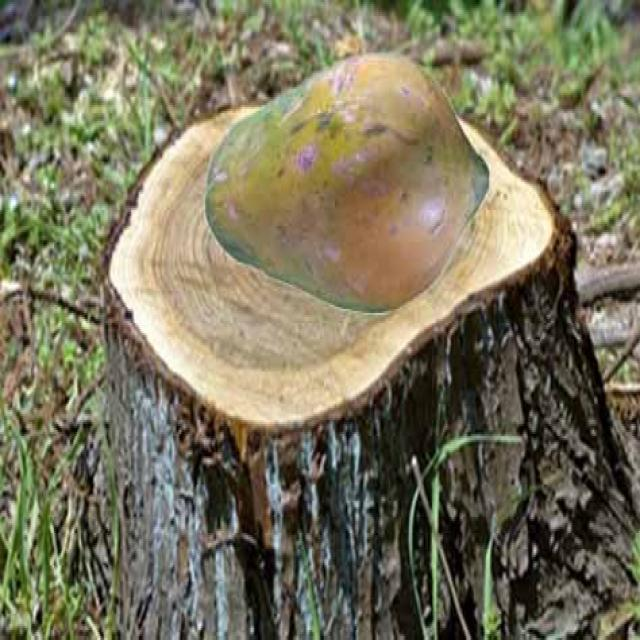Pepaya rippen: (200, 61, 497, 319)
